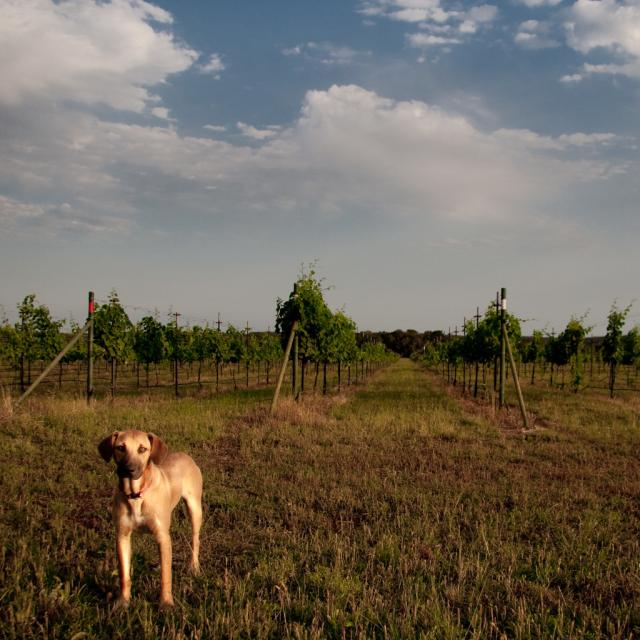Dog: (93, 428, 208, 613)
